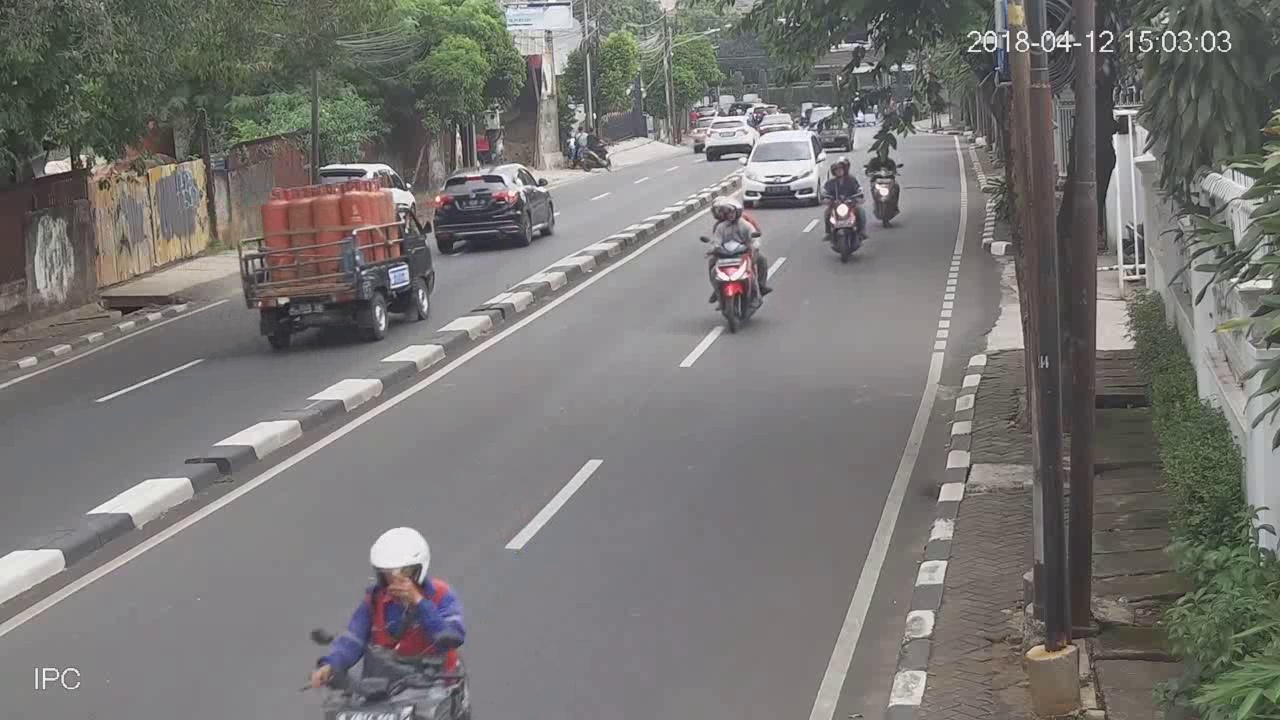car: (430, 159, 557, 253), (747, 141, 819, 211)
motorcycle: (695, 192, 781, 338), (818, 153, 872, 265), (860, 141, 907, 228)
truck: (224, 182, 441, 347)
